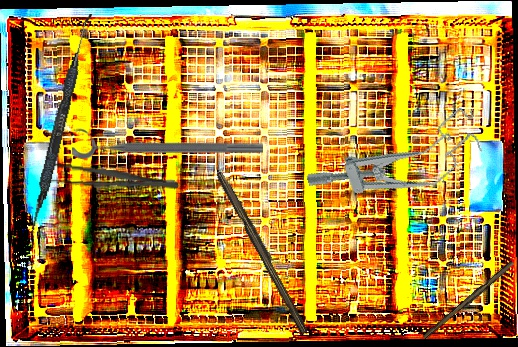Dressing Forceps: (44, 162, 179, 196)
Fixation Ring: (72, 127, 263, 159)
Scalpel Handle: (212, 169, 314, 335), (422, 259, 516, 342)
Spatula Surgical: (27, 11, 93, 237)
Speculum: (301, 103, 492, 224)
